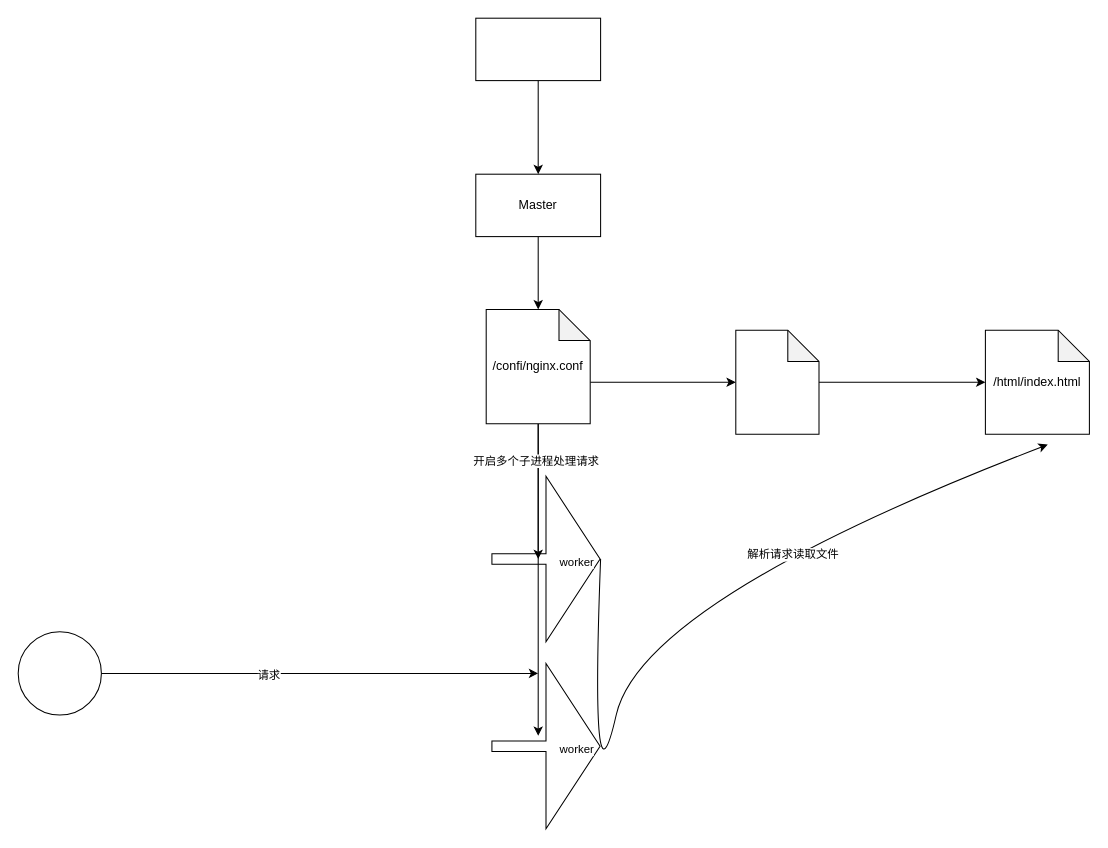
Image size: 1108x848. Some labels were removed from this diagram. The shapes that lost their labels are listed below. From the top down, each one's centre as x and y in pixels, then its label:
pixel 538 49: sbin/nginx
pixel 777 381: /html
